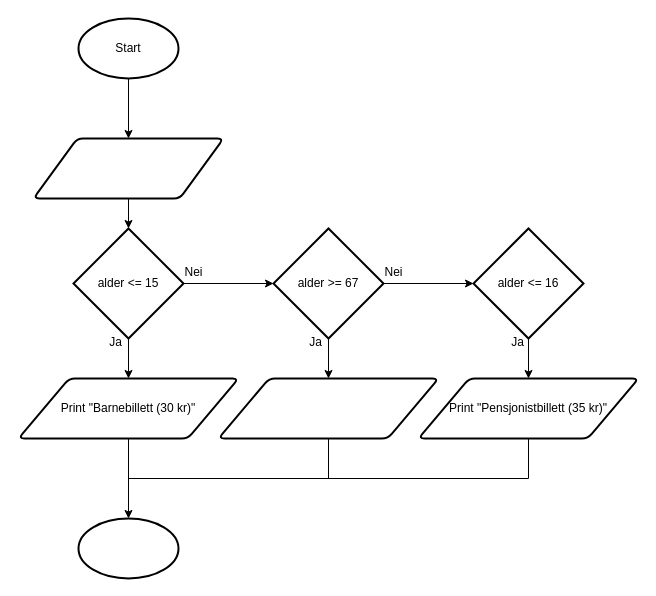
Some shapes in this 656 by 596 pixel diagram are drawn without their labels. The centre of each missing label's shape, as x and y in pixels:
Hent kjøpers alder: [128,168]
Print "Voksenbillett (50 kr)": [328,408]
Slutt: [128,548]
